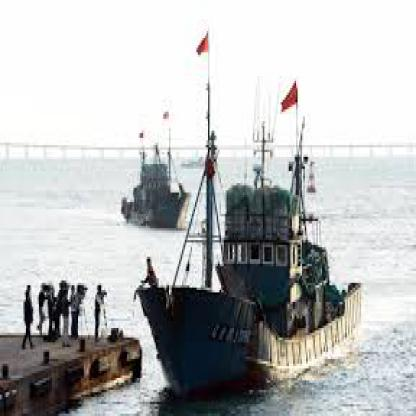fish-b: (124, 128, 368, 400), (108, 100, 193, 240)
